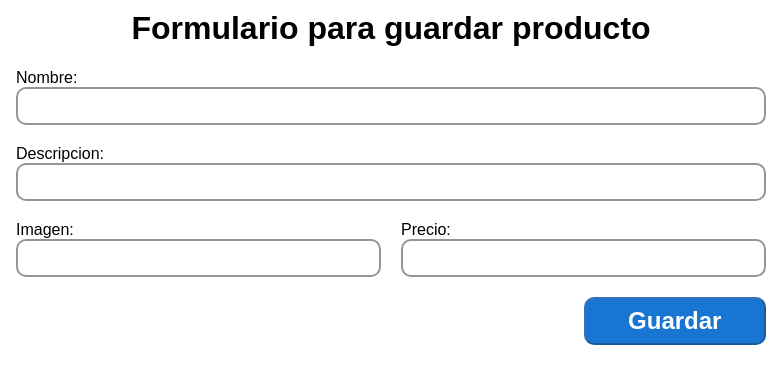
Test case: Home › Should not allow type negatives numbers in product's price
This screenshot has width=783, height=380.
Step 1. Type "-1" into the field labelled "Precio:" → point(584, 258), box 401,239 -> 766,277
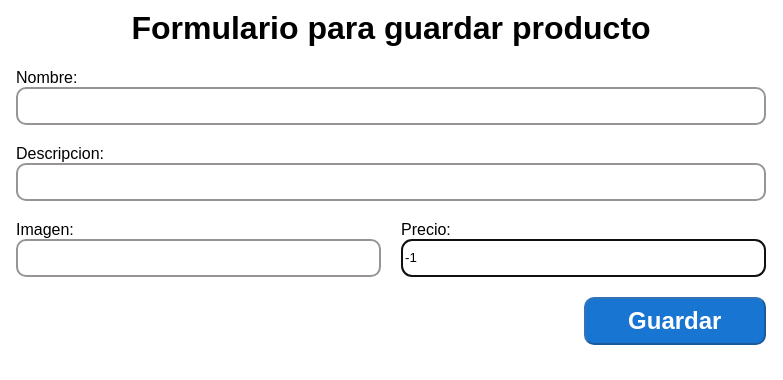
Step 2. Press Tab
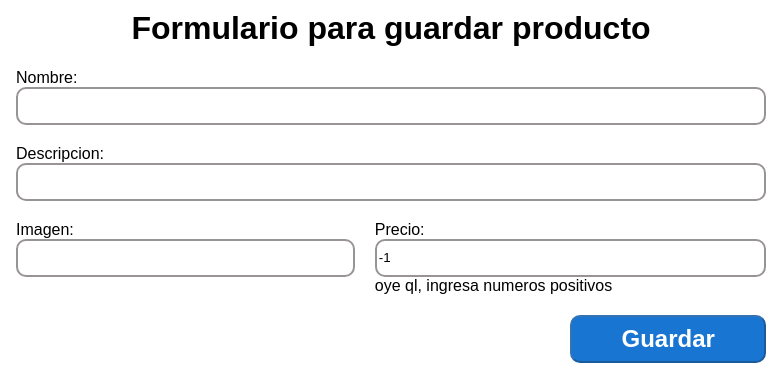
Expected: the text "oye ql, ingresa numeros positivos" is shown, 375,277 -> 612,294
